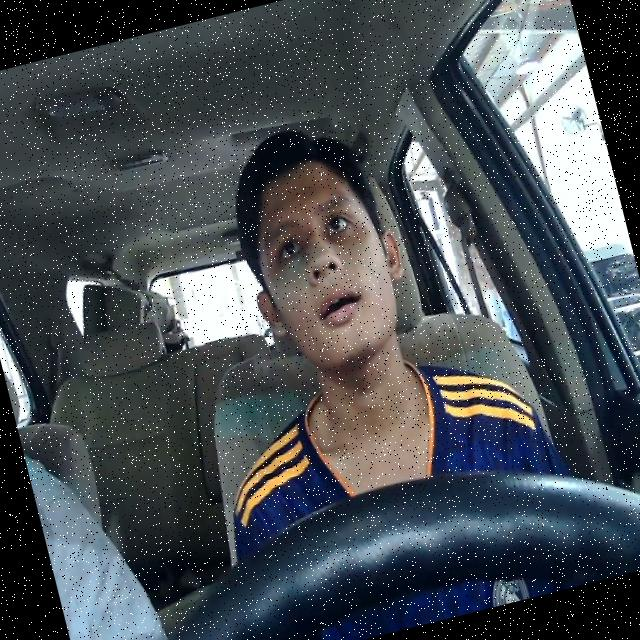yarning: (222, 140, 423, 381)
